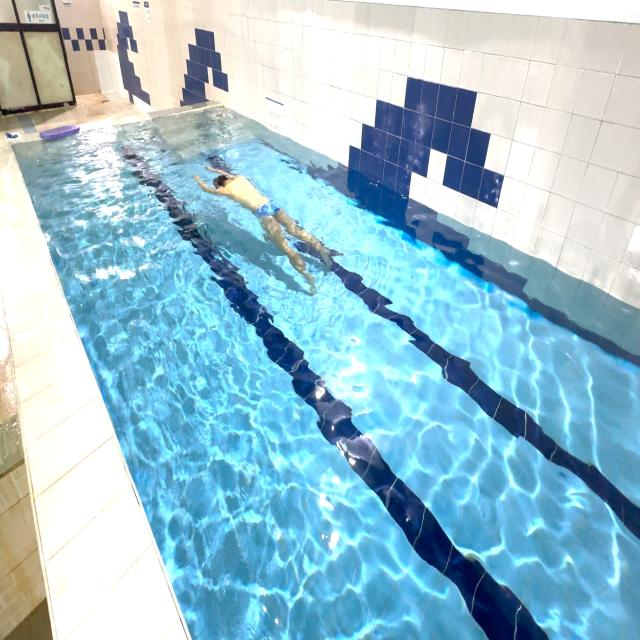Drowning: (183, 146, 347, 300)
